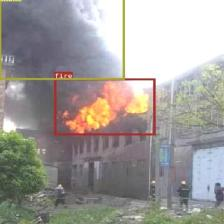fire: (54, 78, 155, 135)
smoke: (0, 0, 124, 79)
